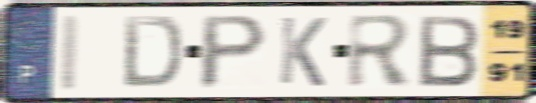B: (417, 13, 482, 89)
D: (120, 14, 185, 91)
I: (55, 12, 85, 93)
K: (276, 14, 329, 90)
P: (196, 12, 271, 92)
R: (345, 12, 415, 91)
